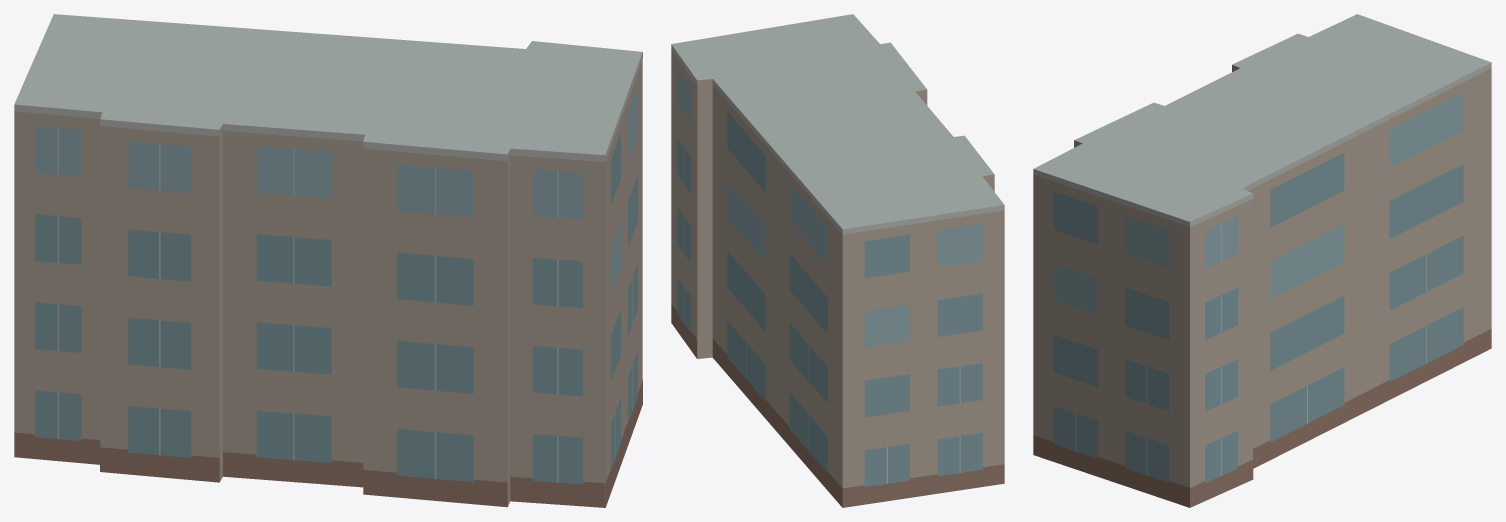
The model's file is survey-upis-32879935.glb.
3 views of the same model, side by side, from view 1: azimuth 30°, elevation 25°; view 2: azimuth 150°, elevation 25°; view 3: azimuth 270°, elevation 25° (orthographic). The views are drawn at different scales.
Parts seen in each view (by area): view 1: survey-upis-32879935.tmp; view 2: survey-upis-32879935.tmp; view 3: survey-upis-32879935.tmp.
Part boxes in pixels (left/top/right/bottom): survey-upis-32879935.tmp: left=14, top=14, right=642, bottom=507; survey-upis-32879935.tmp: left=671, top=14, right=1004, bottom=507; survey-upis-32879935.tmp: left=1033, top=14, right=1491, bottom=507.
Bounding box in the file's own units: 19.65 × 12.6 × 18.31.
